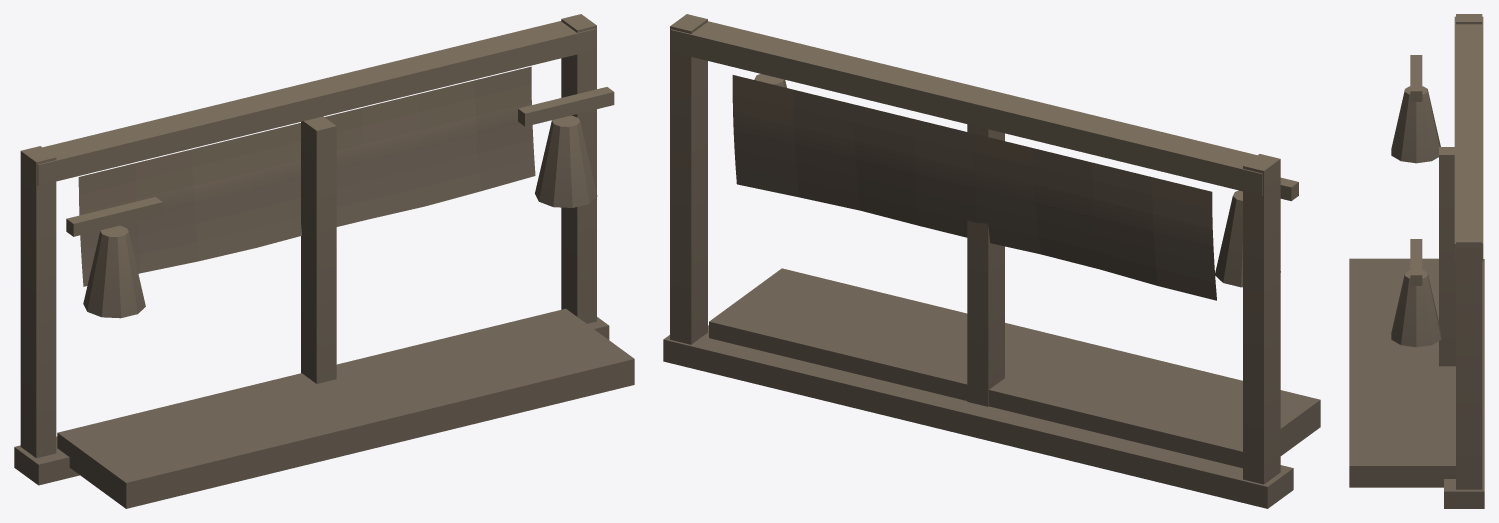
File: facade_inn.glb
3 renders of one model, left to right at view 1: azimuth 30°, elevation 25°; view 2: azimuth 150°, elevation 25°; view 3: azimuth 270°, elevation 25°, orthographic. The views are drawn at different scales.
Parts seen in each view (by area): view 1: facade_inn; view 2: facade_inn; view 3: facade_inn.
Boxes of the visible parts, left/top/right/bottom form: facade_inn: left=14, top=14, right=634, bottom=508; facade_inn: left=663, top=14, right=1320, bottom=508; facade_inn: left=1349, top=14, right=1484, bottom=508.
Bounding box in the file's own units: 4.6 × 2.44 × 1.13.
